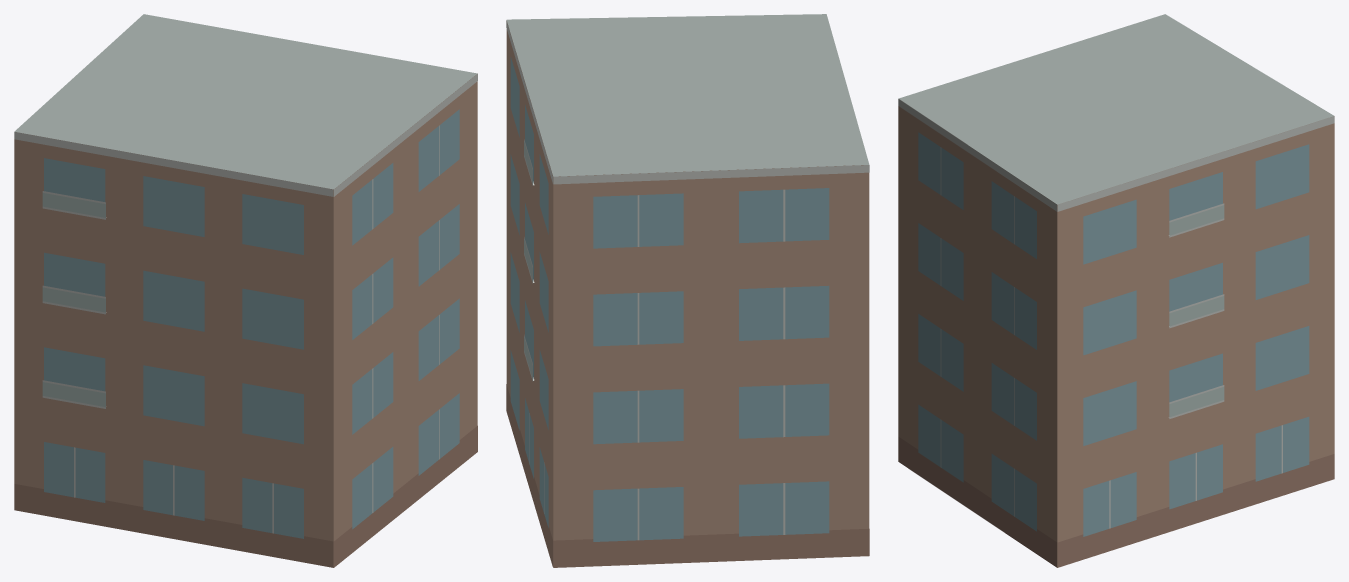
Rendered from residential-f11e3e54-0b5b-4b29-8bf4-72b6de5faa3a.glb.
3 renders of one model, left to right at view 1: azimuth 30°, elevation 25°; view 2: azimuth 150°, elevation 25°; view 3: azimuth 270°, elevation 25°, orthographic. The views are drawn at different scales.
Parts seen in each view (by area): view 1: residential-f11e3e54-0b5b-4b29-8bf4-72b6de5faa3a.tmp; view 2: residential-f11e3e54-0b5b-4b29-8bf4-72b6de5faa3a.tmp; view 3: residential-f11e3e54-0b5b-4b29-8bf4-72b6de5faa3a.tmp.
Boxes of the visible parts, x1=… form: residential-f11e3e54-0b5b-4b29-8bf4-72b6de5faa3a.tmp: x1=14, y1=14, x2=477, y2=567; residential-f11e3e54-0b5b-4b29-8bf4-72b6de5faa3a.tmp: x1=506, y1=14, x2=869, y2=567; residential-f11e3e54-0b5b-4b29-8bf4-72b6de5faa3a.tmp: x1=898, y1=14, x2=1334, y2=567.
Size of the model in its own units: 13.75 by 12.2 by 13.29.
